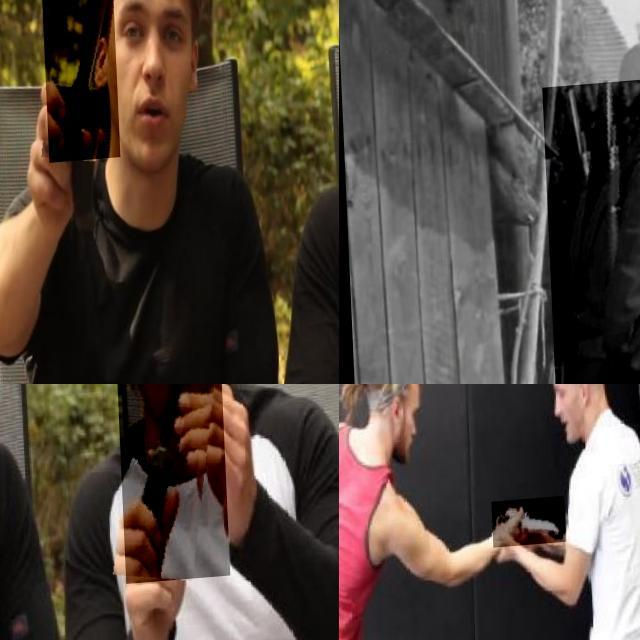-: (110, 384, 226, 590), (39, 0, 117, 164), (490, 504, 564, 555)
gun-knife-thesis - v11 Yolov5 augmented: (541, 81, 640, 384)
